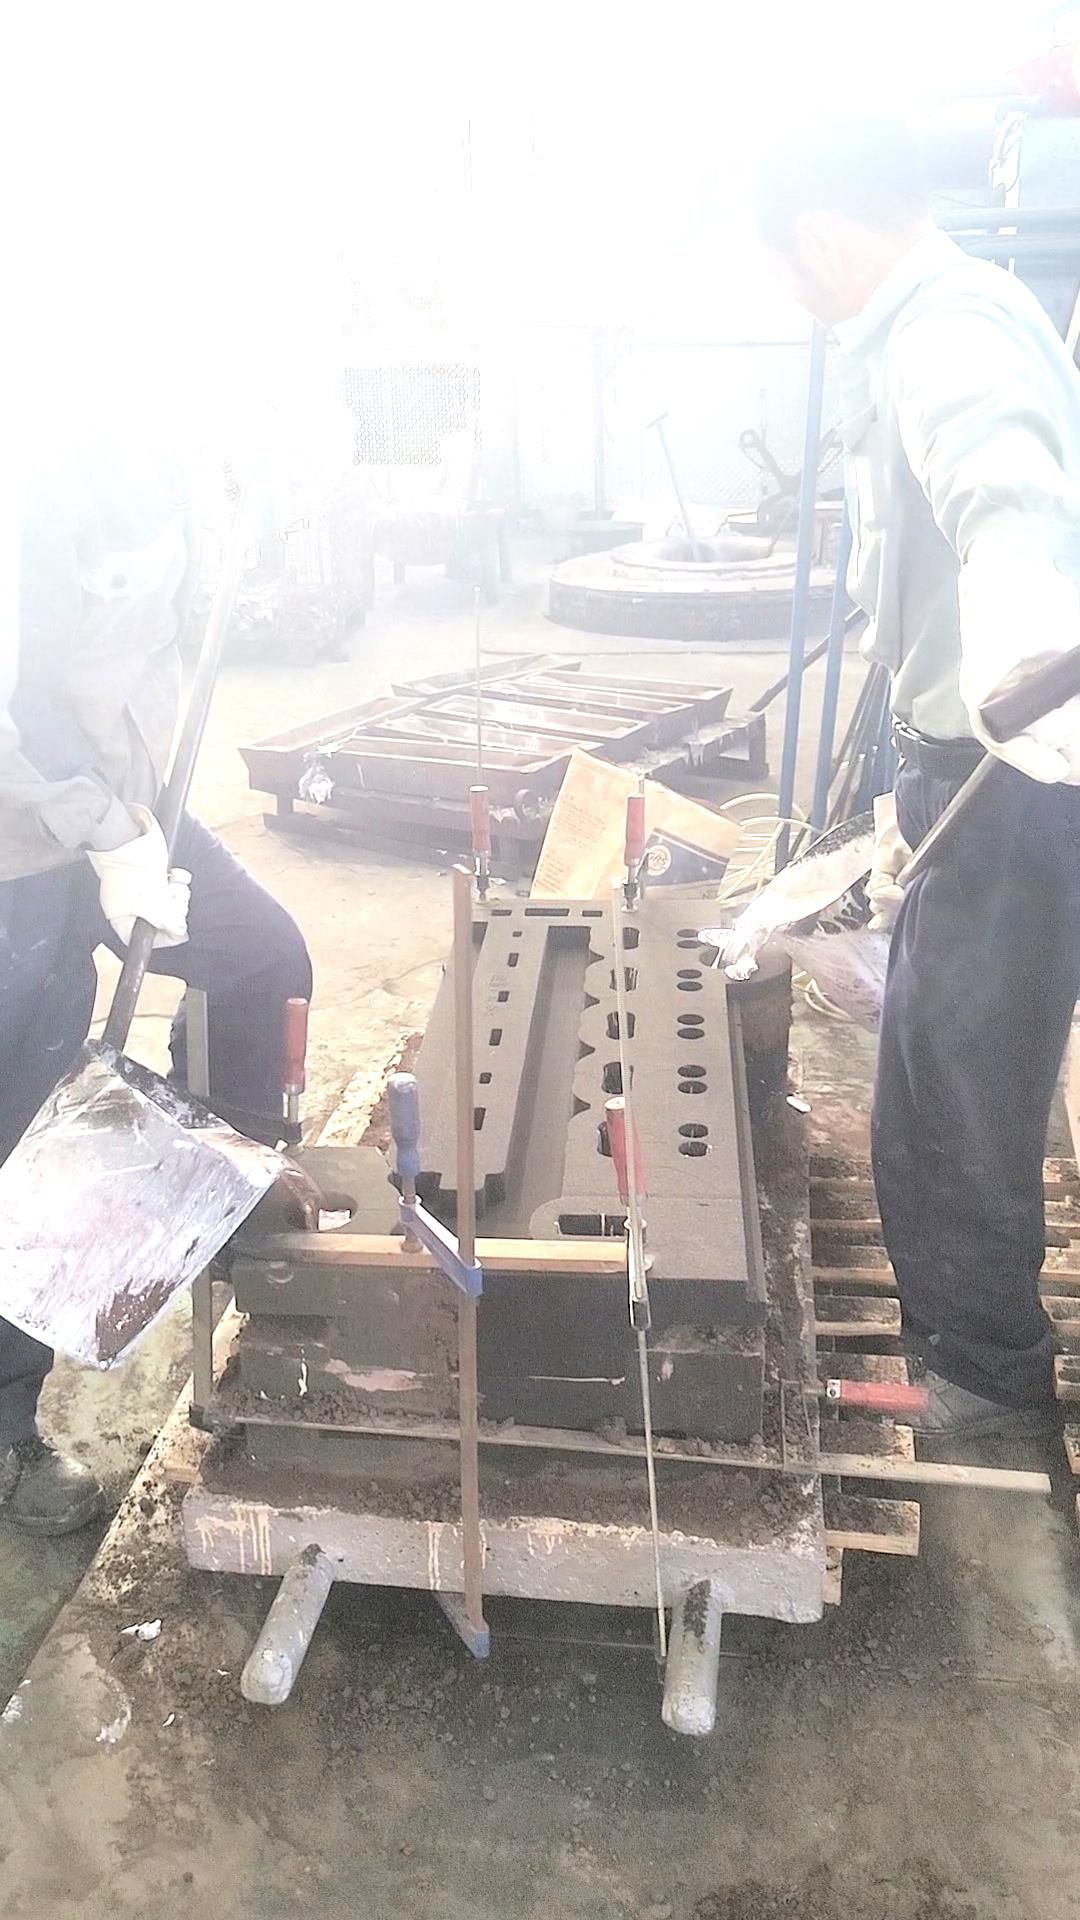pouring hole: (282, 1193, 359, 1232), (698, 943, 757, 969)
